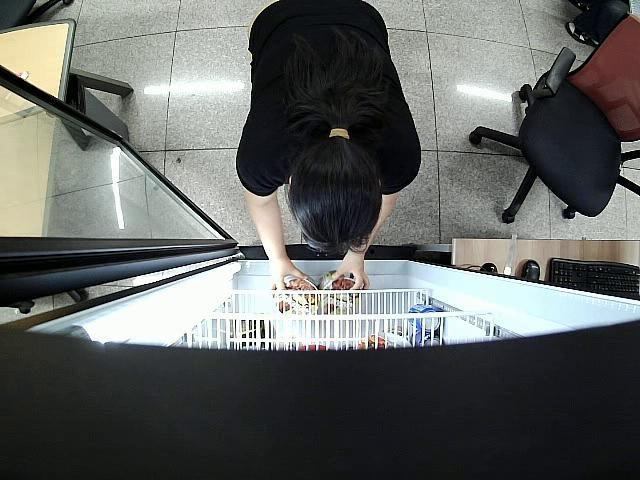03_chapagetti_L: (274, 274, 320, 316), (322, 272, 364, 314)
